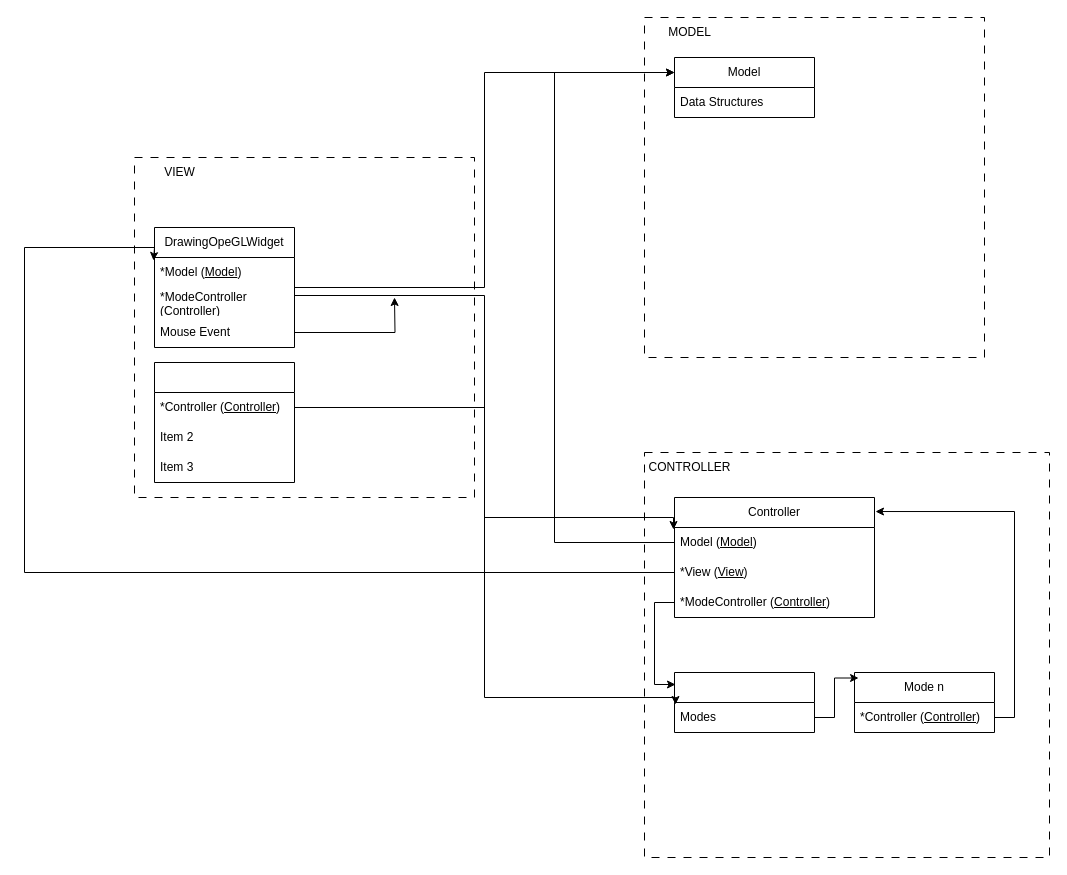
This 1067x875 diagram has some shape labels left out. Here are the shapes that lost their labels. From the top down, the box of each, then its label:
(154, 362, 294, 482): mainWindow
(674, 672, 814, 732): ModeController
